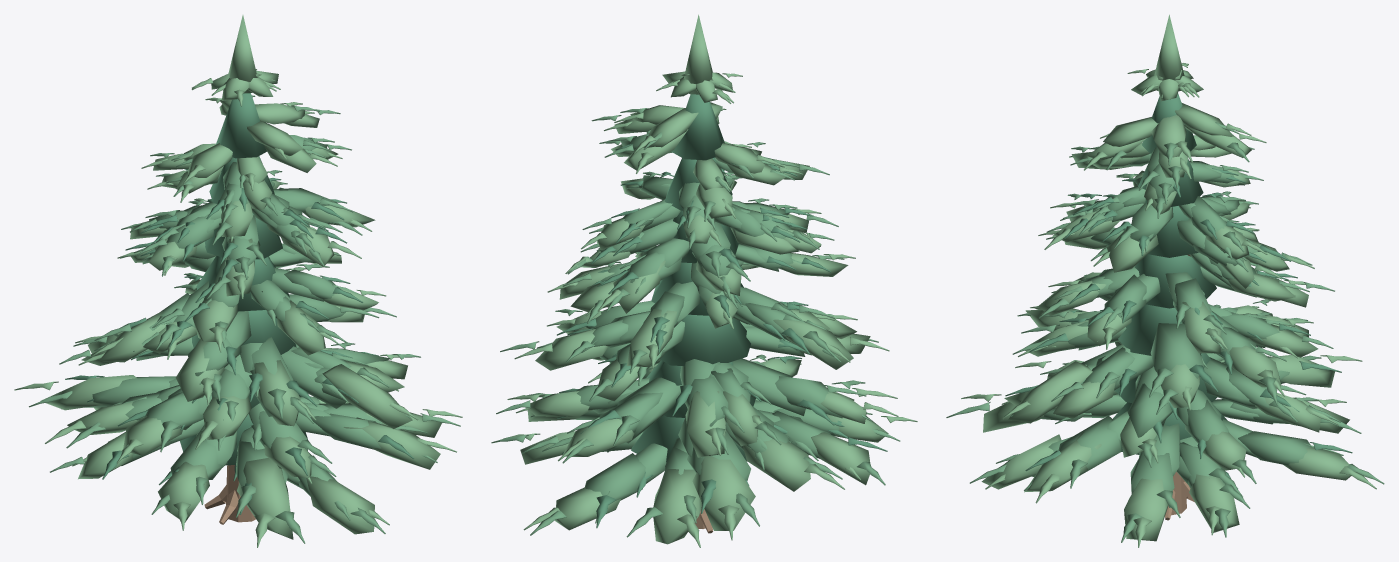
File: Pine_2.gltf
The picture shows the model from 3 angles, left to right: view 1: azimuth 30°, elevation 25°; view 2: azimuth 150°, elevation 25°; view 3: azimuth 270°, elevation 25°; orthographic projection. The views are drawn at different scales.
Visible parts, largest first — view 1: Pine_2; view 2: Pine_2; view 3: Pine_2.
Part boxes in pixels (box(x1,y1,x2,y2)): Pine_2: box(14, 15, 462, 547); Pine_2: box(491, 14, 917, 547); Pine_2: box(946, 14, 1384, 547).
Size of the model in its own units: 4.08 by 4.97 by 3.99.
